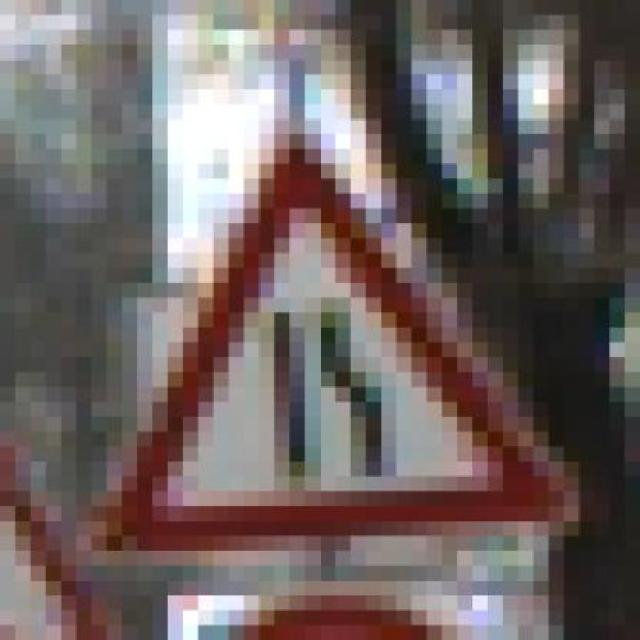-Road narrows on right: (61, 120, 610, 566)
